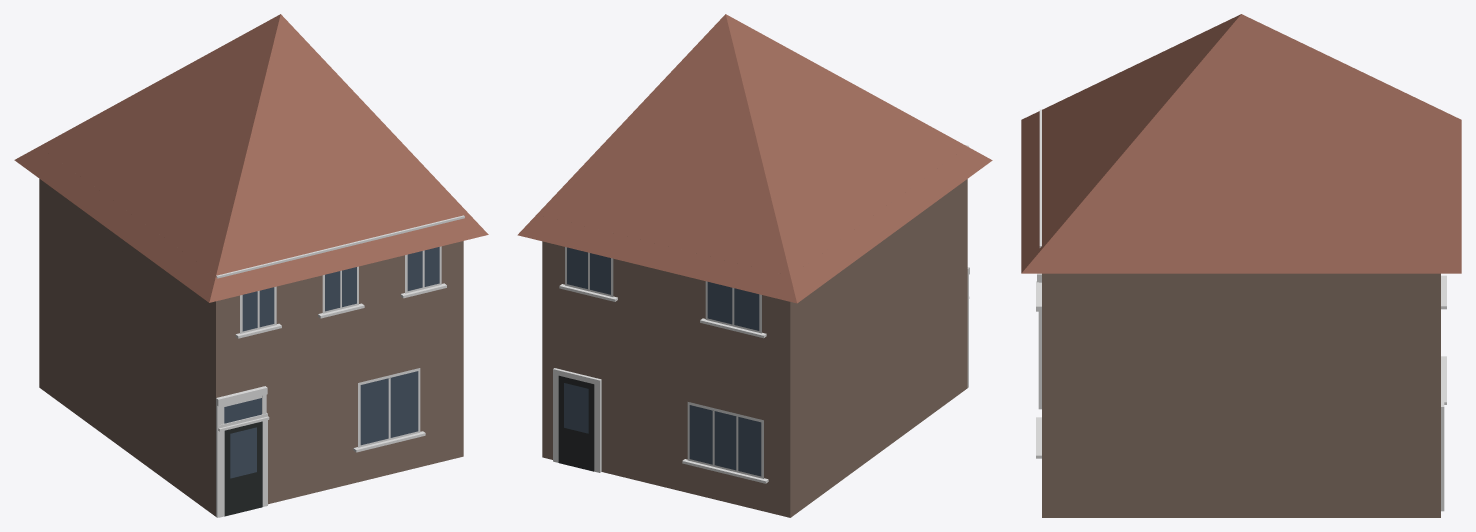
Rendered from nn-row-small__small-grey__2__hip__long__solid__free.glb.
3 renders of one model, left to right at view 1: azimuth 30°, elevation 25°; view 2: azimuth 150°, elevation 25°; view 3: azimuth 270°, elevation 25°, orthographic. The views are drawn at different scales.
Parts seen in each view (by area): view 1: nn-row-small__small-grey__2__hip__long__solid__free; view 2: nn-row-small__small-grey__2__hip__long__solid__free; view 3: nn-row-small__small-grey__2__hip__long__solid__free.
Part boxes in pixels (bbox=[...]): nn-row-small__small-grey__2__hip__long__solid__free: bbox=[14, 14, 488, 517]; nn-row-small__small-grey__2__hip__long__solid__free: bbox=[517, 14, 992, 517]; nn-row-small__small-grey__2__hip__long__solid__free: bbox=[1021, 14, 1461, 517].
Size of the model in its own units: 7.03 by 9.64 by 8.51.
